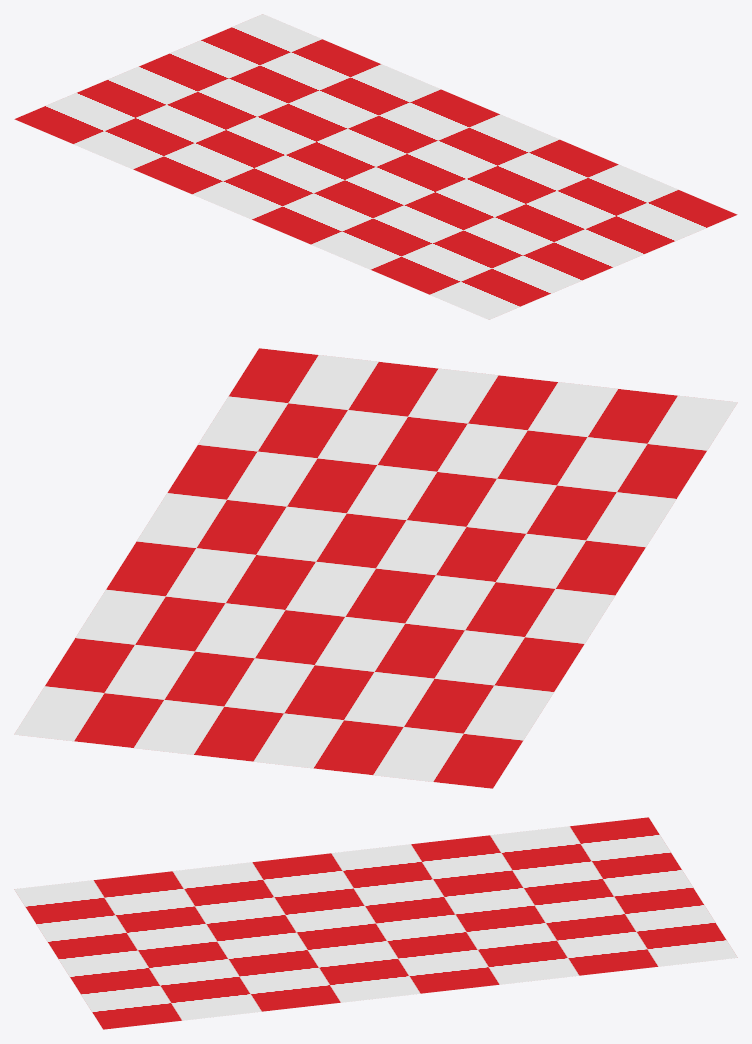
The model's file is widePicnic.glb.
3 renders of one model, top to bottom at view 1: azimuth 30°, elevation 25°; view 2: azimuth 150°, elevation 25°; view 3: azimuth 270°, elevation 25°, orthographic. The views are drawn at different scales.
Visible parts, largest first — view 1: wide; view 2: wide; view 3: wide.
Boxes of the visible parts, x1,y1,x2,y2 form: wide: [14, 14, 737, 319]; wide: [14, 348, 737, 788]; wide: [14, 817, 737, 1029].
Size of the model in its own units: 2.05 by 0 by 2.95.
1 material, 1 textured.
